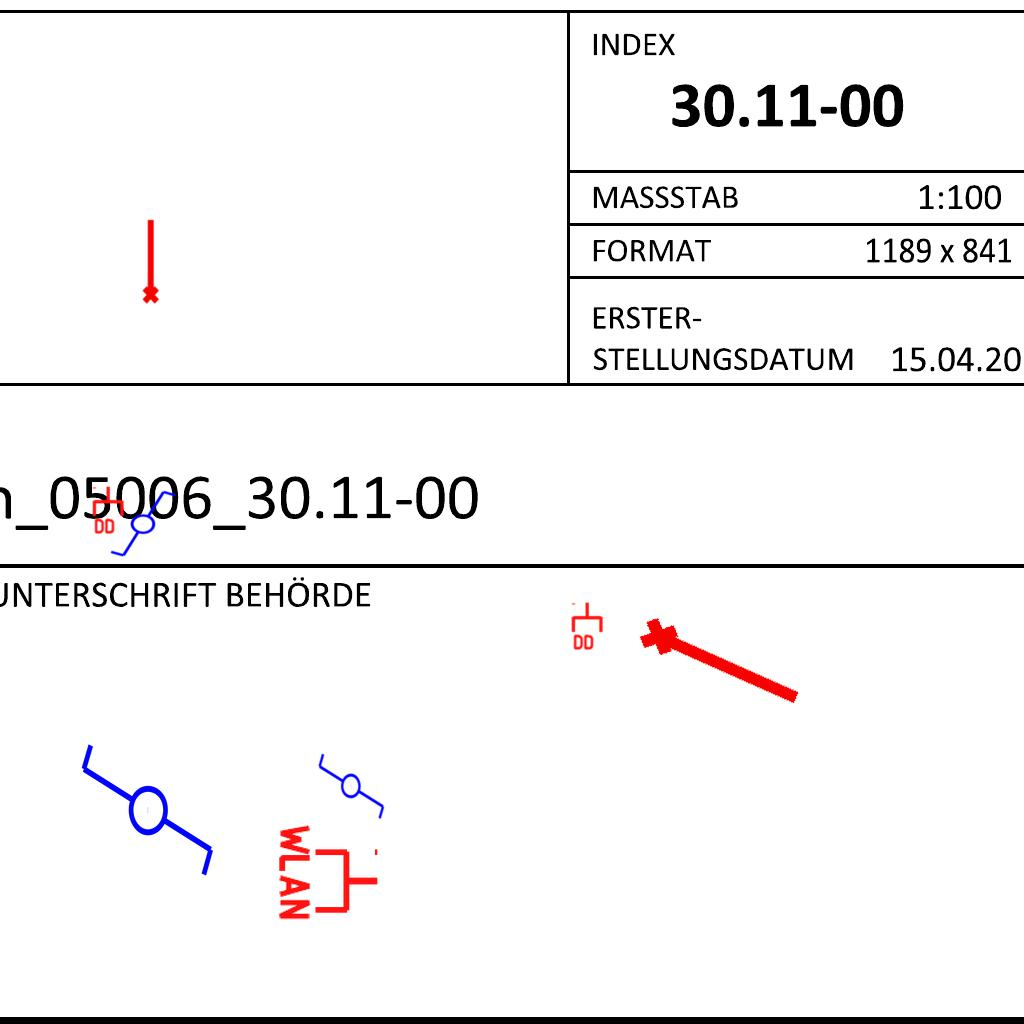ASR_Ansaugoeffnung: (632, 605, 812, 719), (138, 217, 161, 305)
Datenanschluss_zweifach: (92, 485, 126, 536), (571, 601, 605, 652)
WLAN: (277, 820, 382, 924)
Wechselschalter: (74, 740, 218, 897), (316, 743, 388, 821), (100, 487, 178, 559)
